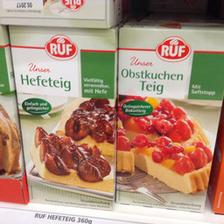Kuchen: (7, 24, 117, 210), (117, 19, 223, 207)
